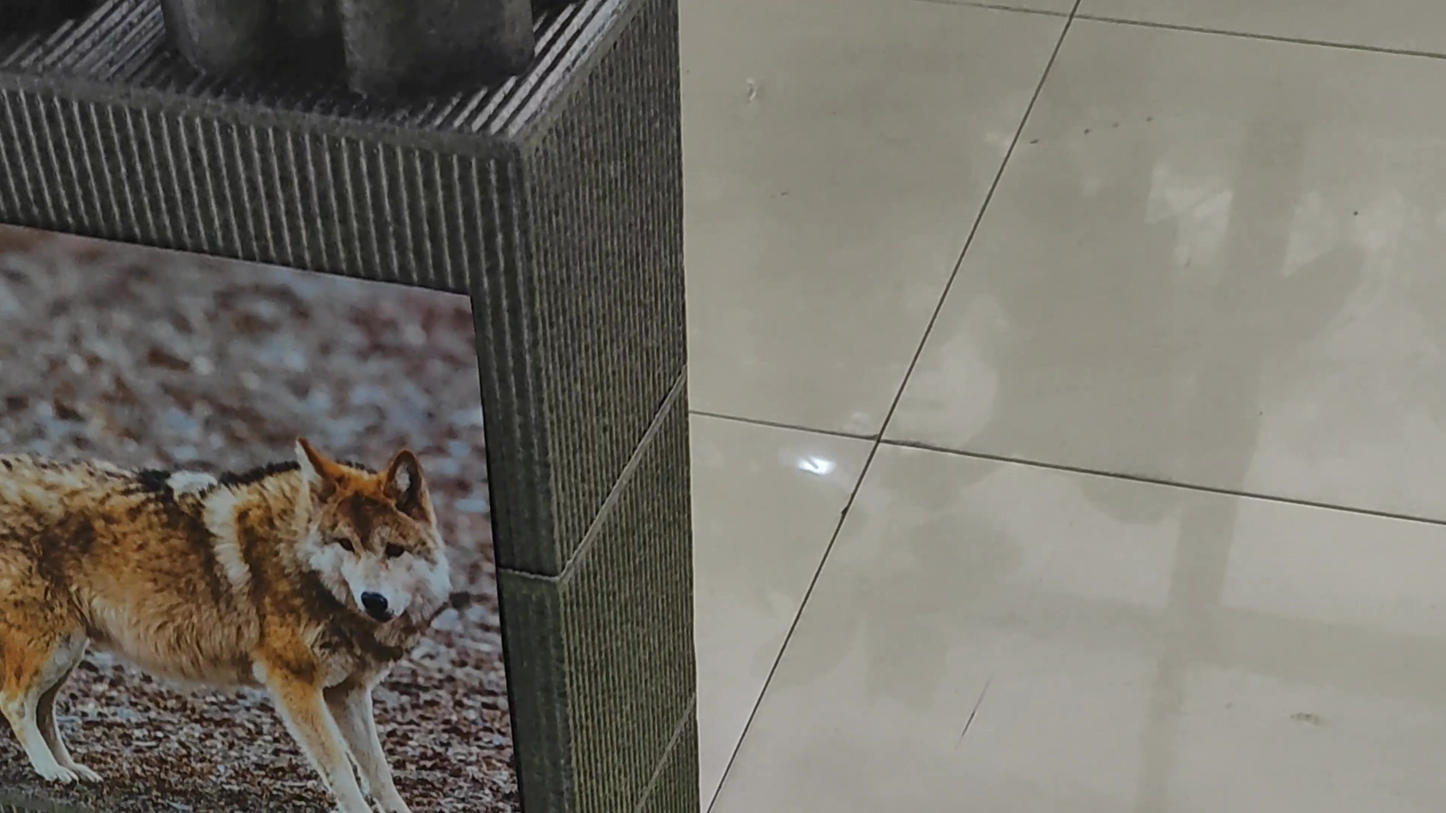wolf: (2, 387, 496, 813)
